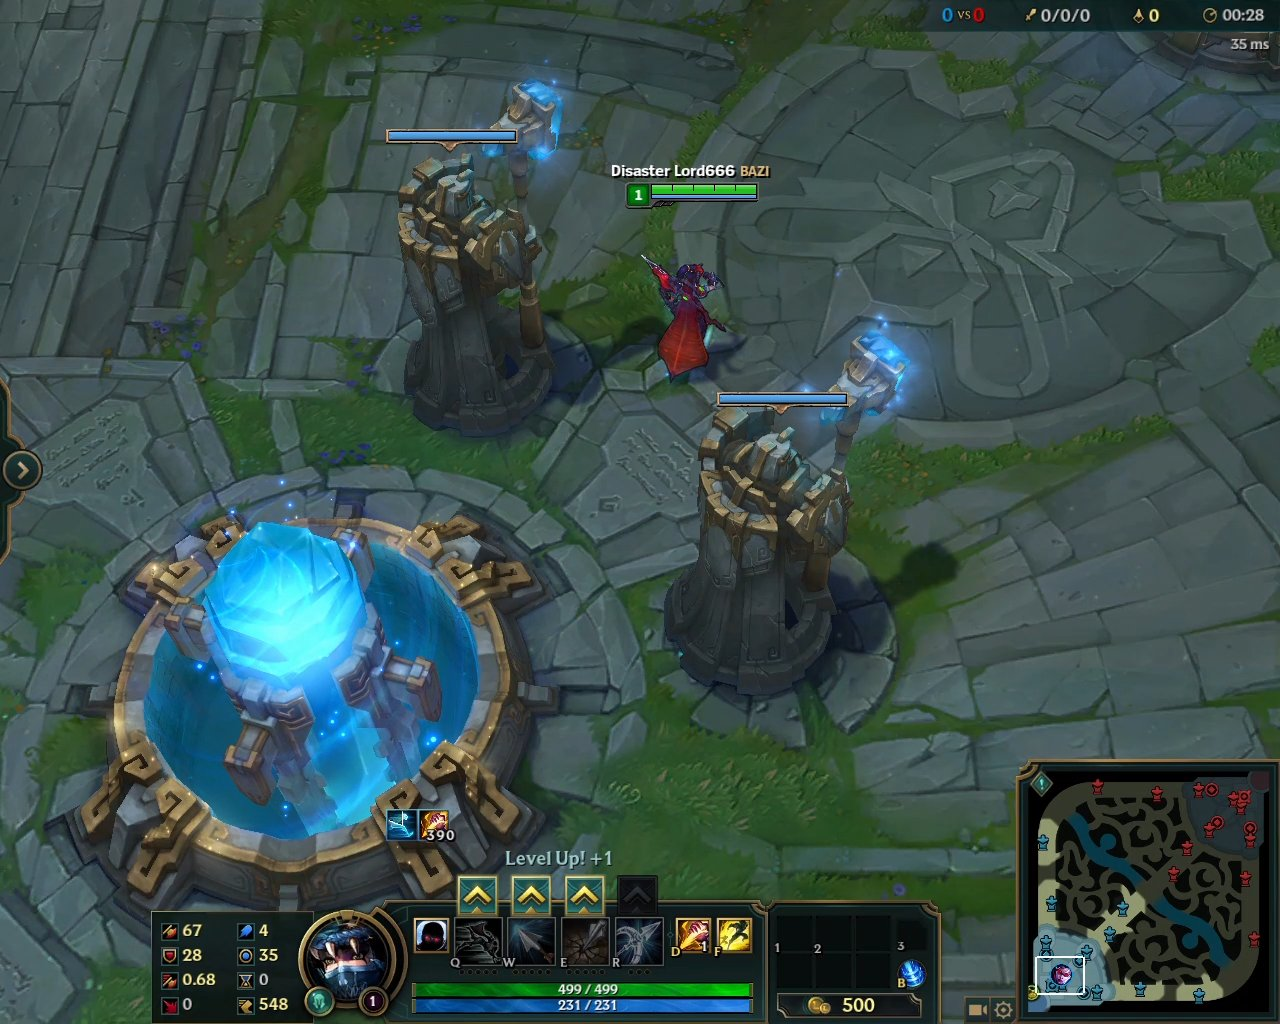Vayne: (642, 245, 732, 387)
